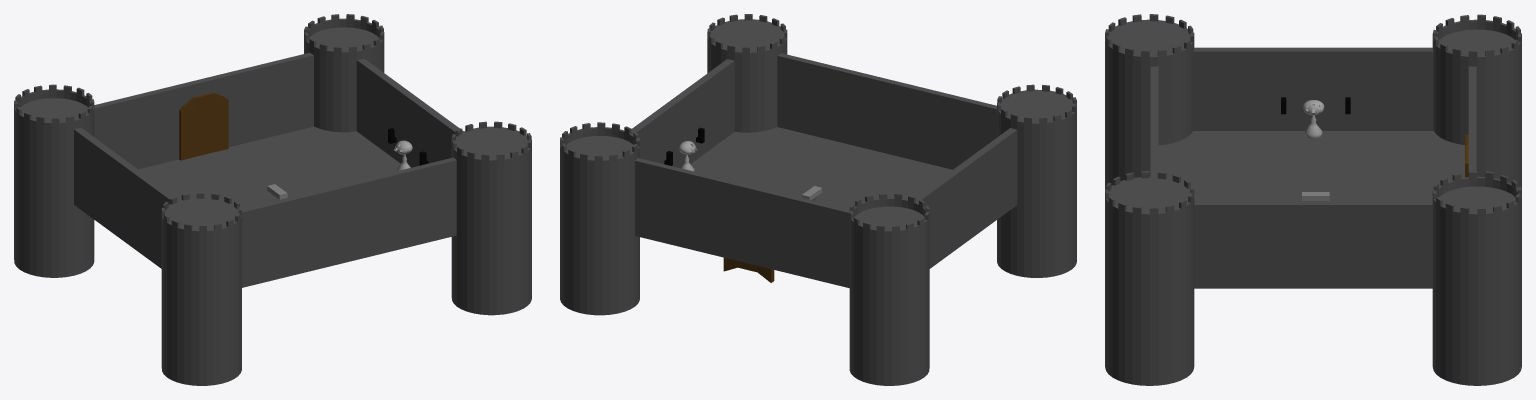
Rendered from Castle.fbx.
3 views of the same model, side by side, from view 1: azimuth 30°, elevation 25°; view 2: azimuth 150°, elevation 25°; view 3: azimuth 270°, elevation 25° (orthographic). The views are drawn at different scales.
Parts seen in each view (by area): view 1: Cube, Cube.001; view 2: Cube, Cube.001; view 3: Cube, Knight Armor.
Part boxes in pixels (x1,y1,x2,y2): Cube: (14,14,531,385); Cube.001: (179,92,228,160); Cube: (560,14,1076,385); Cube.001: (723,257,774,282); Cube: (1105,14,1521,385); Knight Armor: (1303,100,1324,138).
Bounding box in the file's own units: 63260 × 26898 × 57234.
